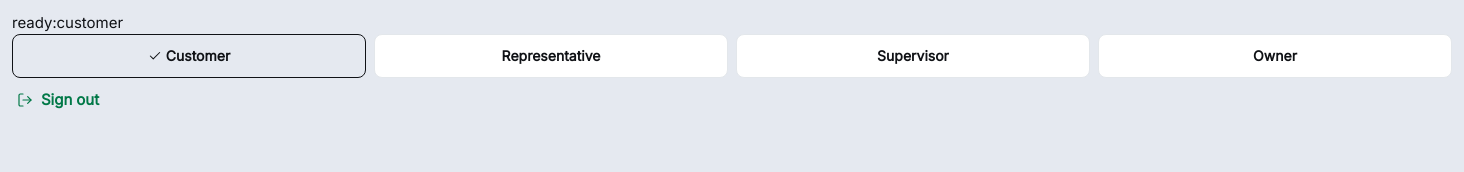
session › switching to Demo supervisor lands on /staff/oversight
The image size is (1464, 172).
Check: the text with test id "probe" shows "ready", box [12,13,52,32]
Step 1. Click the radio button with aria-label "Demo supervisor" → click(913, 56), box [736,34,1090,78]
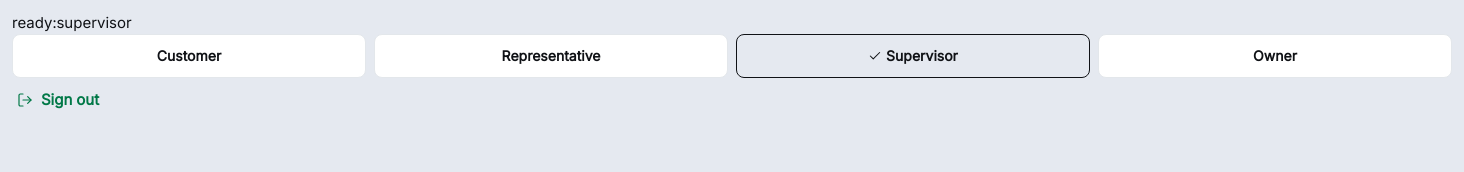
Check: the text with test id "probe" reads "ready:supervisor", box [12,13,132,32]
